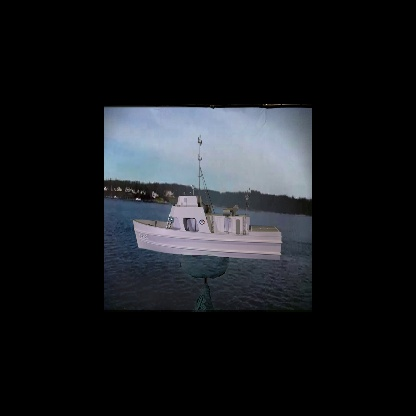YP689: (133, 135, 283, 262)
